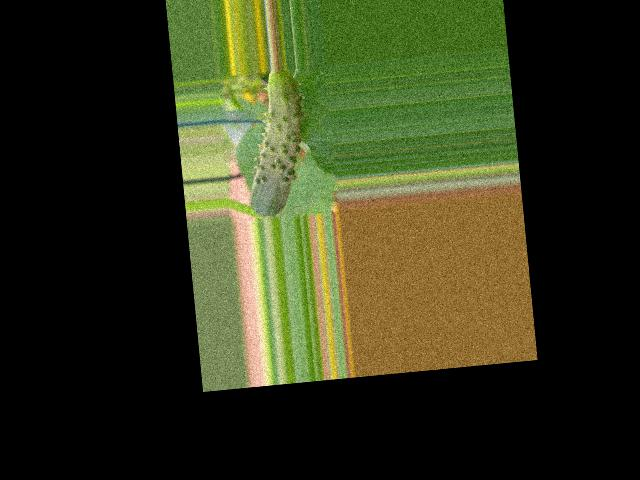cucumber: (238, 68, 313, 219)
